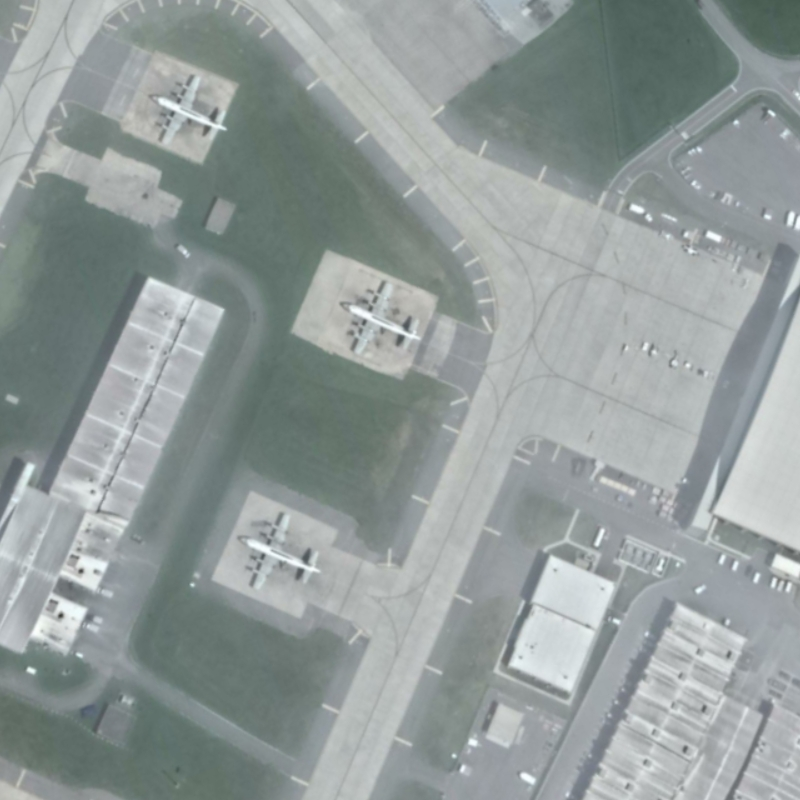A9: (231, 508, 326, 592), (333, 278, 426, 358), (143, 70, 229, 148)
